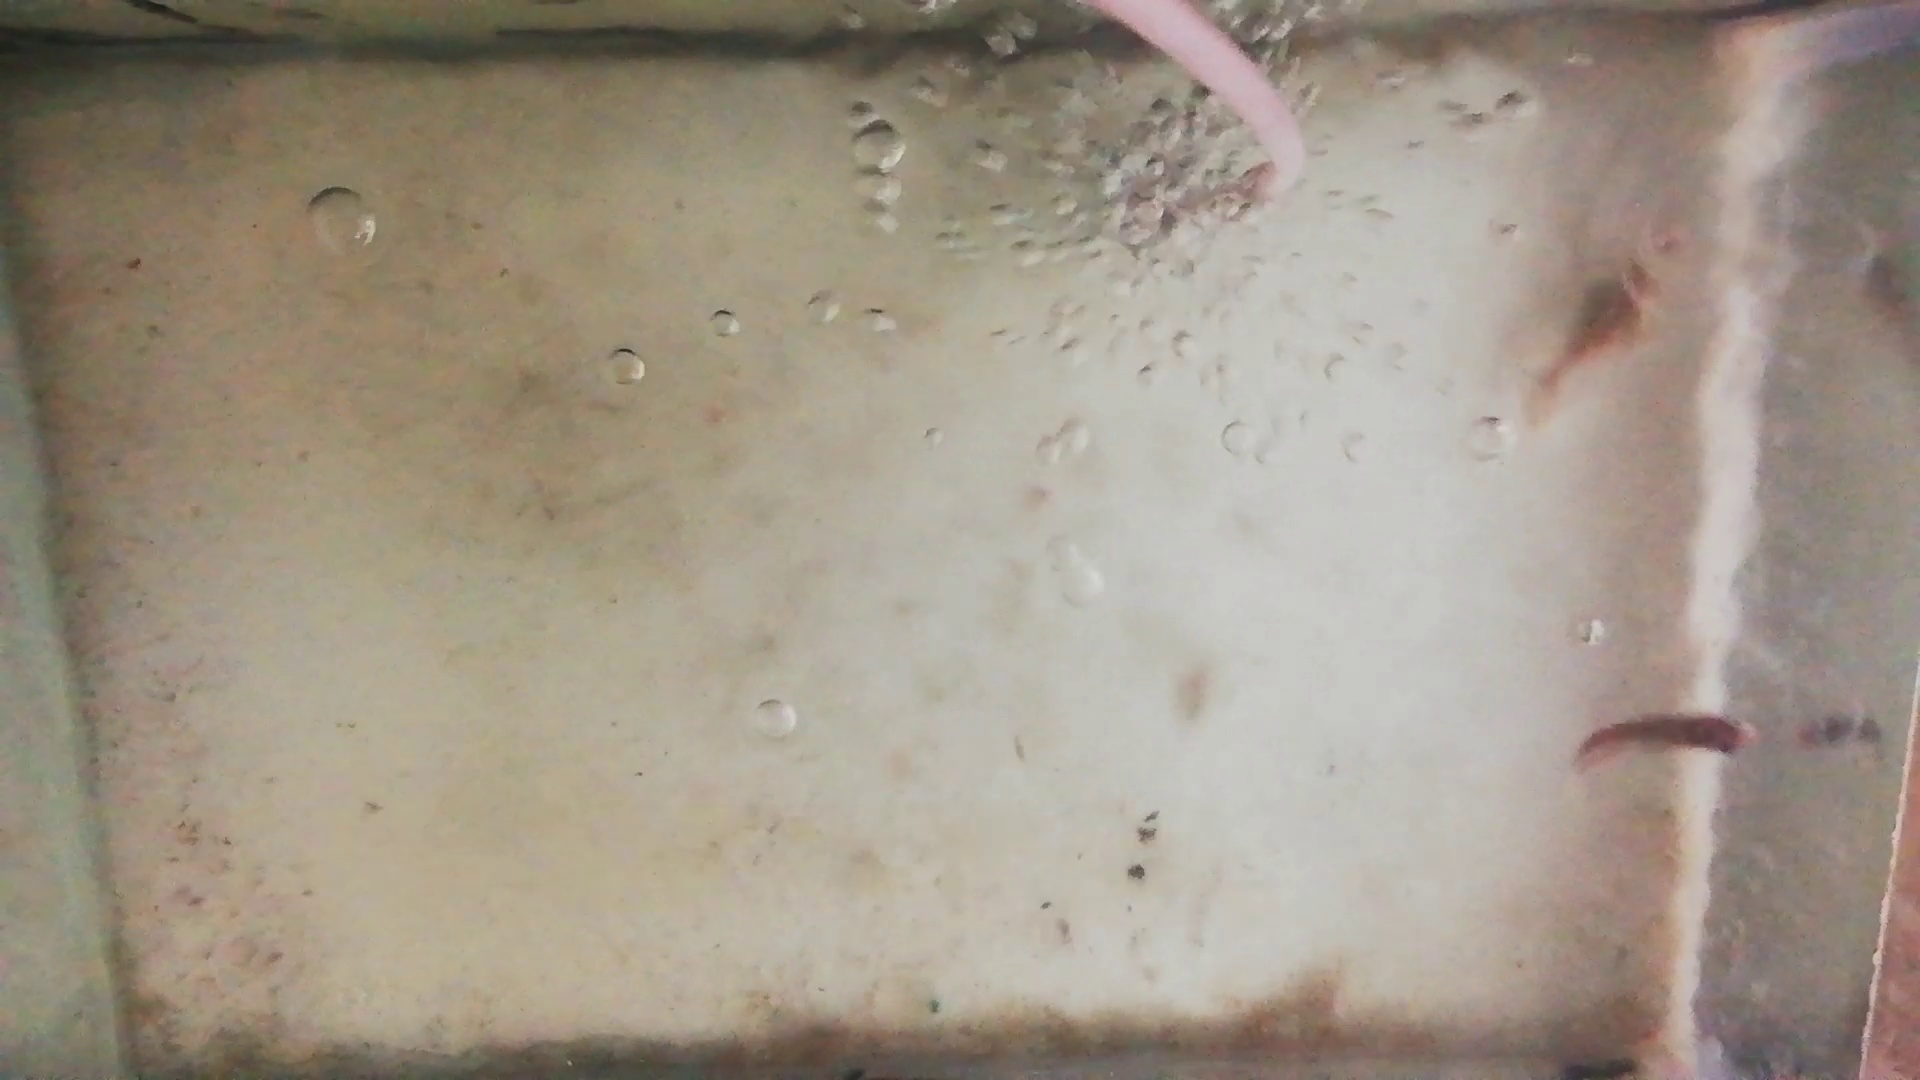fish: (1534, 257, 1668, 401), (1578, 716, 1760, 762)
